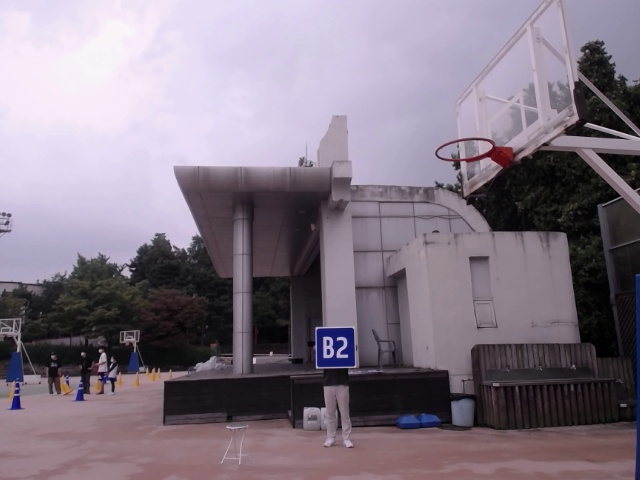delivery_b2: (315, 326, 356, 368)
